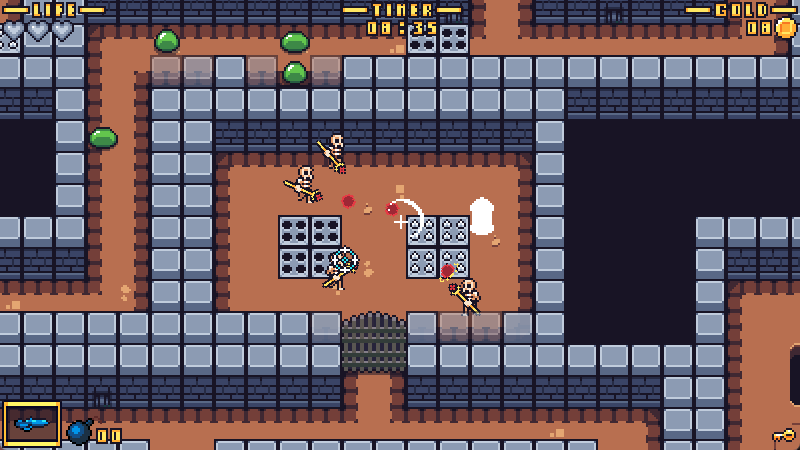aim: (329, 247, 360, 274)
enemy_skeleton: (283, 166, 324, 206), (323, 250, 360, 292), (315, 131, 347, 175), (448, 278, 482, 319)
enemy_skeleton_shoot: (440, 264, 457, 278), (384, 200, 398, 217), (340, 194, 355, 208)
enemy_slug: (87, 125, 119, 150), (153, 27, 180, 54), (282, 59, 308, 82), (280, 31, 308, 52)
enemy_slug_big_hit: (469, 197, 495, 235)
health-6: (1, 17, 76, 44)
key: (773, 429, 797, 444)
trap_door: (338, 308, 407, 376)
trap_off: (278, 216, 342, 279), (407, 26, 469, 55)
trap_warning: (406, 216, 469, 278)
